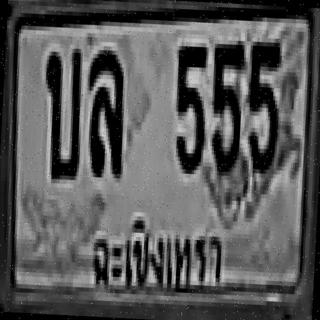A26: (39, 43, 83, 176)
A36: (84, 45, 126, 174)
N05: (206, 37, 245, 174), (243, 37, 282, 174), (171, 42, 207, 170)
P07: (86, 208, 232, 299)
